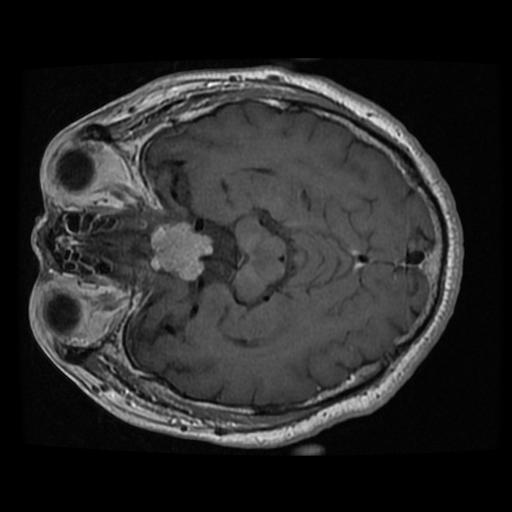pituitary tumour: (147, 222, 214, 282)
